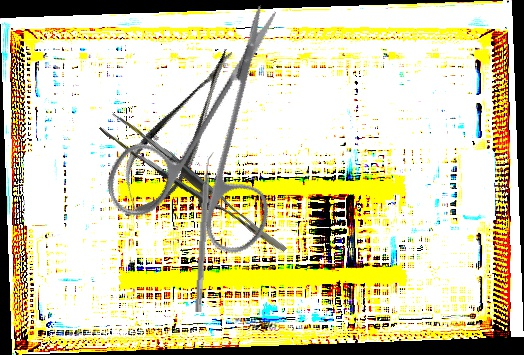Iris Scissors: (65, 0, 354, 290)
Micro Scissor: (101, 36, 257, 232)
Spatula Surgical: (194, 151, 218, 313)
Tissue Forceps: (98, 96, 288, 281)
